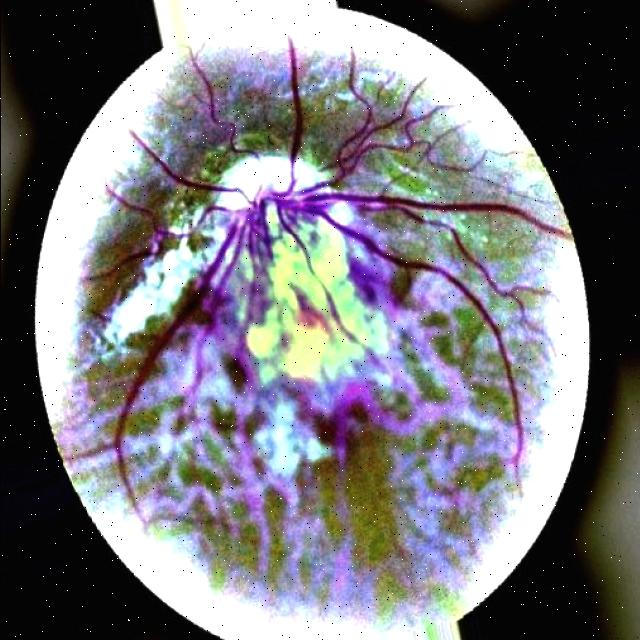Nerves: (114, 39, 569, 465), (190, 51, 261, 161), (109, 190, 192, 263)
Optic Disk: (192, 154, 338, 242), (320, 202, 354, 225)
